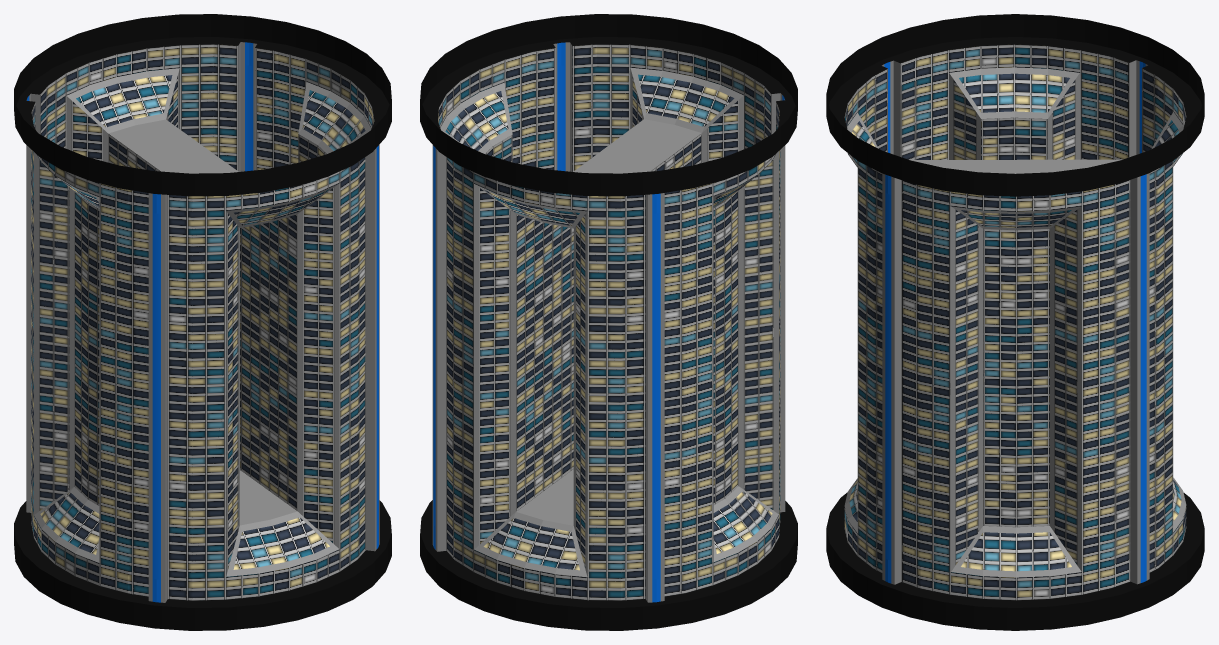
File: SM_BuildingBlockRound.FBX
The picture shows the model from 3 angles, left to right: view 1: azimuth 30°, elevation 25°; view 2: azimuth 150°, elevation 25°; view 3: azimuth 270°, elevation 25°; orthographic projection.
Visible parts, largest first — view 1: Object003; view 2: Object003; view 3: Object003.
Boxes of the visible parts, x1,y1,x2,y2 form: Object003: [14, 14, 391, 630]; Object003: [420, 14, 797, 630]; Object003: [826, 14, 1204, 630].
Size of the model in its own units: 6000 by 8000 by 6000.
4 materials, 1 textured.
